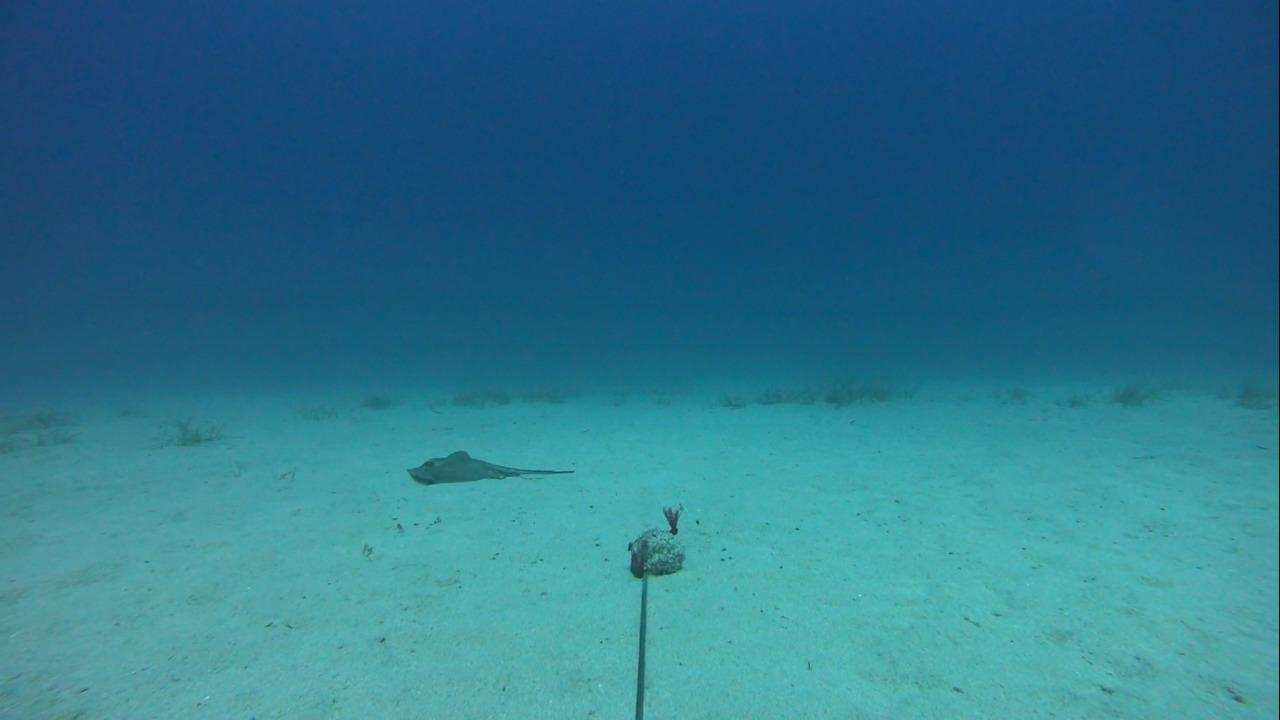myliobatis: (401, 439, 577, 497)
